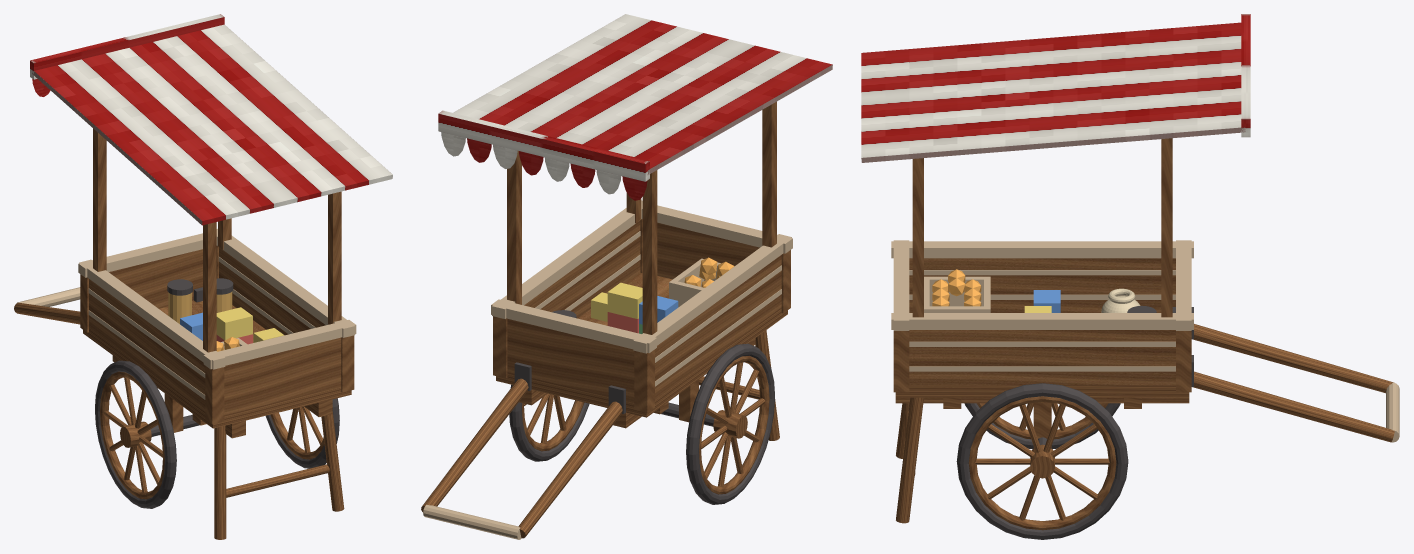
Rendered from gerobak-blender-v1.glb.
3 renders of one model, left to right at view 1: azimuth 30°, elevation 25°; view 2: azimuth 150°, elevation 25°; view 3: azimuth 270°, elevation 25°, orthographic. The views are drawn at different scales.
Visible parts, largest first — view 1: gerobak_stripe, gerobak_wood, gerobak_woodl, gerobak_dark, gerobak_yellow, gerobak_amber; view 2: gerobak_wood, gerobak_stripe, gerobak_woodl, gerobak_dark, gerobak_yellow, gerobak_orange; view 3: gerobak_wood, gerobak_stripe, gerobak_woodl, gerobak_dark, gerobak_orange, gerobak_tan.
Boxes of the visible parts, bbox=[...] form: gerobak_stripe: bbox=[30, 14, 392, 225]; gerobak_wood: bbox=[14, 128, 354, 539]; gerobak_woodl: bbox=[16, 228, 356, 399]; gerobak_dark: bbox=[95, 278, 339, 508]; gerobak_yellow: bbox=[216, 307, 284, 342]; gerobak_amber: bbox=[168, 291, 232, 323]; gerobak_wood: bbox=[421, 101, 790, 538]; gerobak_stripe: bbox=[438, 14, 832, 200]; gerobak_woodl: bbox=[423, 200, 792, 539]; gerobak_dark: bbox=[509, 310, 774, 504]; gerobak_yellow: bbox=[591, 282, 642, 321]; gerobak_orange: bbox=[684, 257, 734, 287]; gerobak_wood: bbox=[893, 138, 1394, 530]; gerobak_stripe: bbox=[861, 14, 1250, 162]; gerobak_woodl: bbox=[891, 240, 1399, 442]; gerobak_dark: bbox=[956, 305, 1193, 539]; gerobak_orange: bbox=[932, 269, 981, 306]; gerobak_tan: bbox=[1101, 288, 1140, 312].
Size of the model in its own units: 1.1 by 2.09 by 2.38.
Materials: 11 (2 with a texture image).
